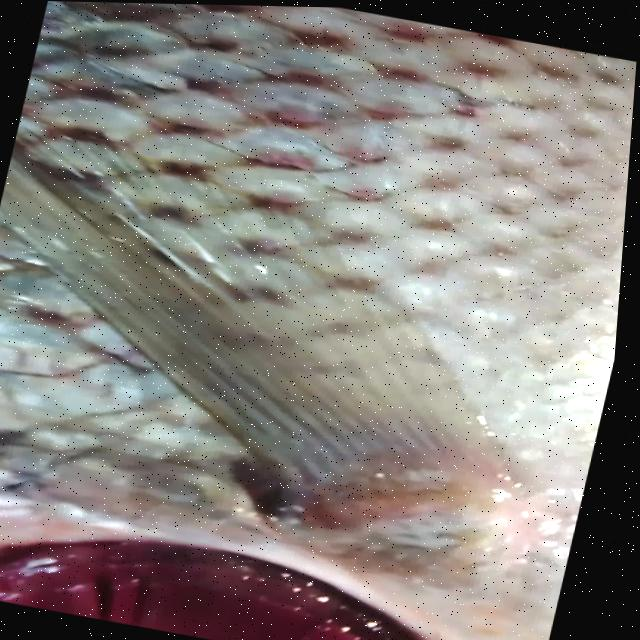Fresh: (0, 420, 498, 640)
